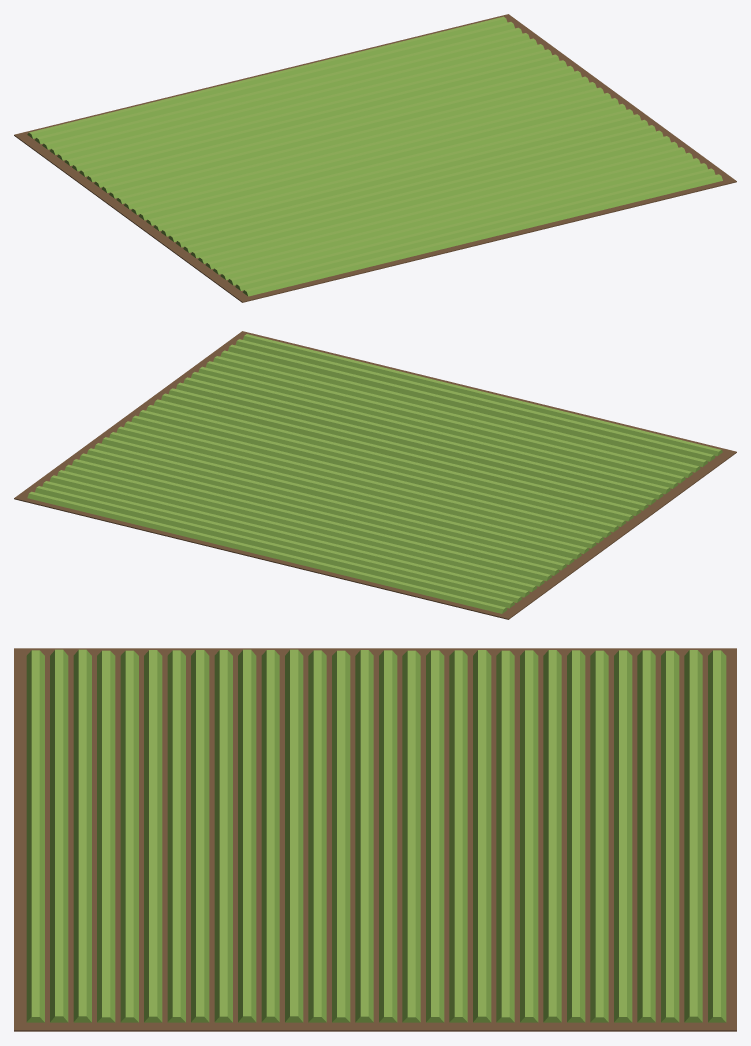
The model's file is Kir_alan_ekin_1.fbx.
3 views of the same model, one above another, from view 1: azimuth 30°, elevation 25°; view 2: azimuth 150°, elevation 25°; view 3: azimuth 270°, elevation 25° (orthographic). The views are drawn at different scales.
Parts seen in each view (by area): view 1: Kir_alan_ekin_1; view 2: Kir_alan_ekin_1; view 3: Kir_alan_ekin_1.
Part boxes in pixels (x1,y1,x2,y2): Kir_alan_ekin_1: (14, 14, 736, 302); Kir_alan_ekin_1: (14, 331, 736, 619); Kir_alan_ekin_1: (14, 648, 736, 1031).
Size of the model in its own units: 50 by 0.4724 by 40.
